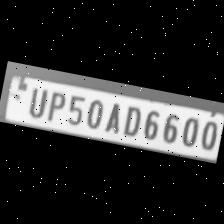0: (82, 94, 108, 129), (176, 113, 202, 148), (197, 116, 223, 150)
5: (61, 90, 86, 126)
6: (138, 104, 163, 140), (158, 109, 182, 144)
A: (102, 98, 125, 134)
D: (118, 101, 144, 137)
P: (43, 86, 68, 122)
U: (23, 83, 49, 118)
